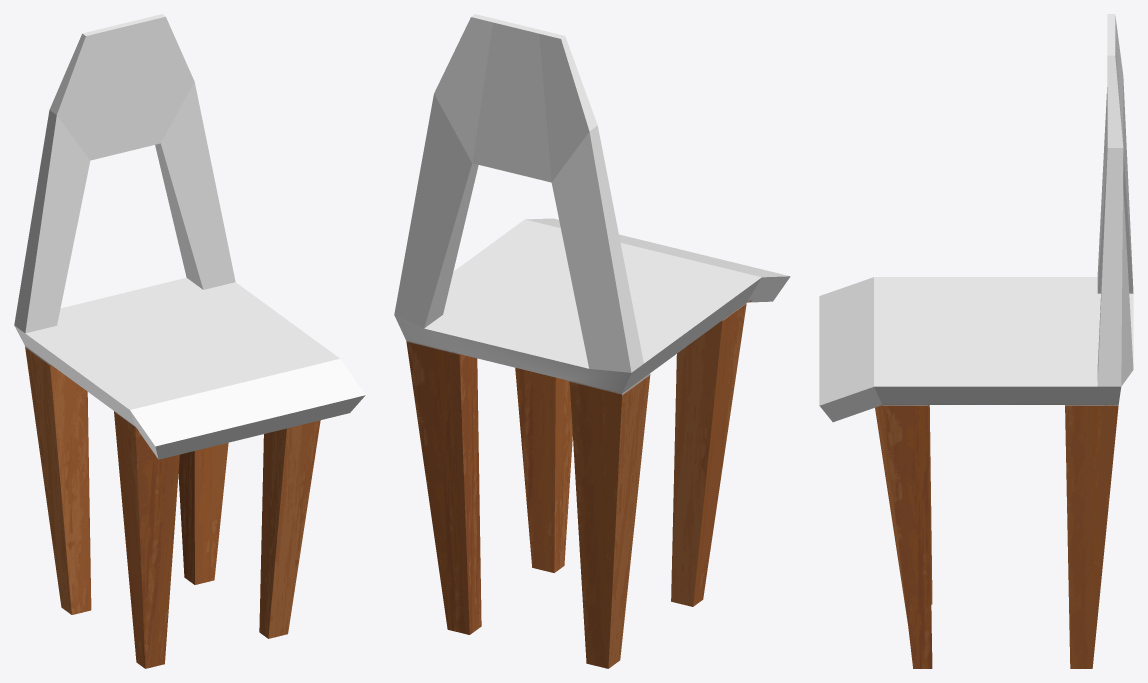
Rendered from Chair.fbx.
3 renders of one model, left to right at view 1: azimuth 30°, elevation 25°; view 2: azimuth 150°, elevation 25°; view 3: azimuth 270°, elevation 25°, orthographic. The views are drawn at different scales.
Parts seen in each view (by area): view 1: Chair; view 2: Chair; view 3: Chair.
Boxes of the visible parts, x1=… form: Chair: x1=14, y1=14, x2=365, y2=668; Chair: x1=394, y1=14, x2=790, y2=668; Chair: x1=819, y1=14, x2=1133, y2=668.
Size of the model in its own units: 2.28 by 5.78 by 2.76.
